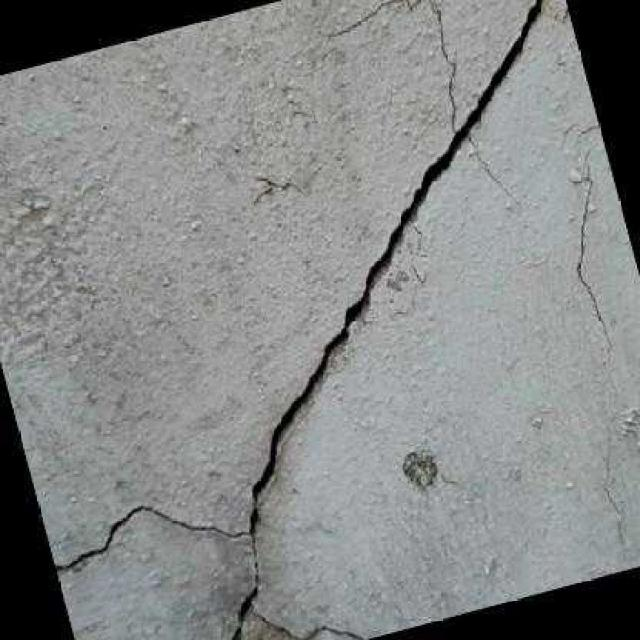D00: (54, 0, 541, 640)
